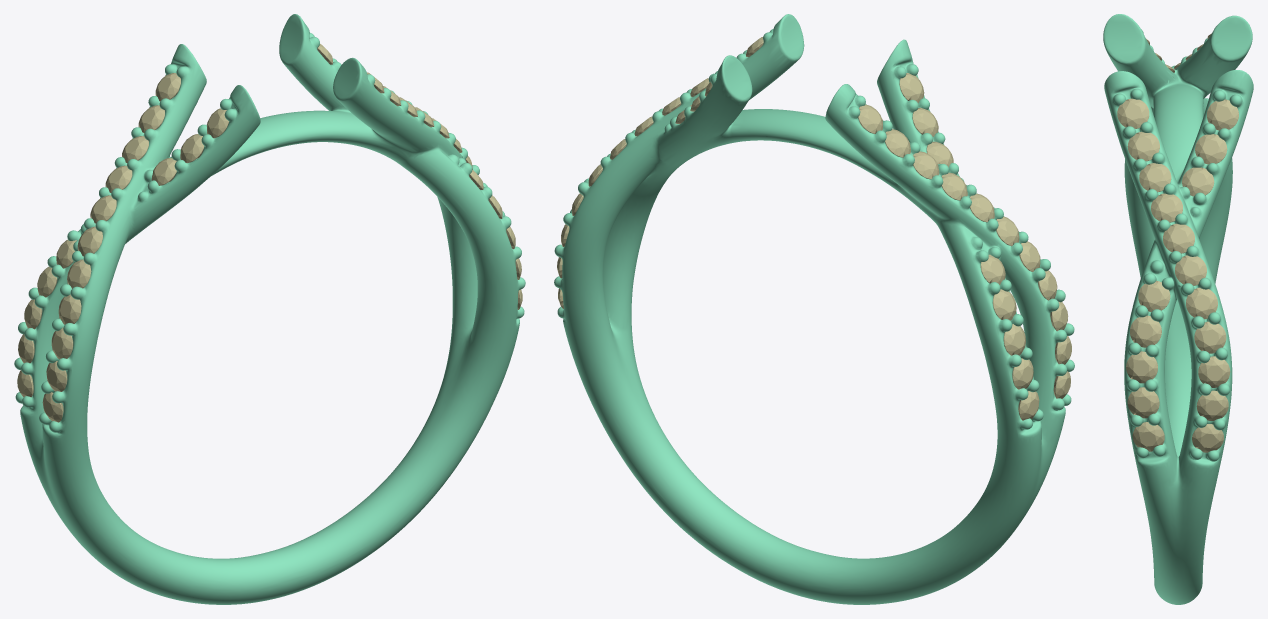
3 views of the same model, side by side, from view 1: azimuth 30°, elevation 25°; view 2: azimuth 150°, elevation 25°; view 3: azimuth 270°, elevation 25° (orthographic).
Parts seen in each view (by area): view 1: Metal02; view 2: Metal02; view 3: Metal02, Diamond_Gem.006, Diamond_Gem.011, Diamond_Gem.012, Diamond_Gem.005, Diamond_Gem.018, Diamond_Gem.001, Diamond_Gem.002, Diamond_Gem.013, Diamond_Gem.004, Diamond_Gem.009, Diamond_Gem.014 (+8 smaller).
Boxes of the visible parts, box(x1,y1,x2,y2) form: Metal02: box(14, 14, 525, 604); Metal02: box(554, 14, 1074, 604); Metal02: box(1103, 14, 1253, 604); Diamond_Gem.006: box(1130, 315, 1161, 347); Diamond_Gem.011: box(1194, 321, 1226, 353); Diamond_Gem.012: box(1186, 287, 1217, 319); Diamond_Gem.005: box(1126, 351, 1157, 383); Diamond_Gem.018: box(1117, 98, 1149, 128); Diamond_Gem.001: box(1195, 134, 1227, 164); Diamond_Gem.002: box(1207, 99, 1238, 130); Diamond_Gem.013: box(1175, 255, 1206, 285); Diamond_Gem.004: box(1127, 387, 1159, 418); Diamond_Gem.009: box(1198, 356, 1230, 387); Diamond_Gem.014: box(1163, 223, 1194, 253).
Size of the model in its own units: 21.16 by 23.08 by 5.85.
